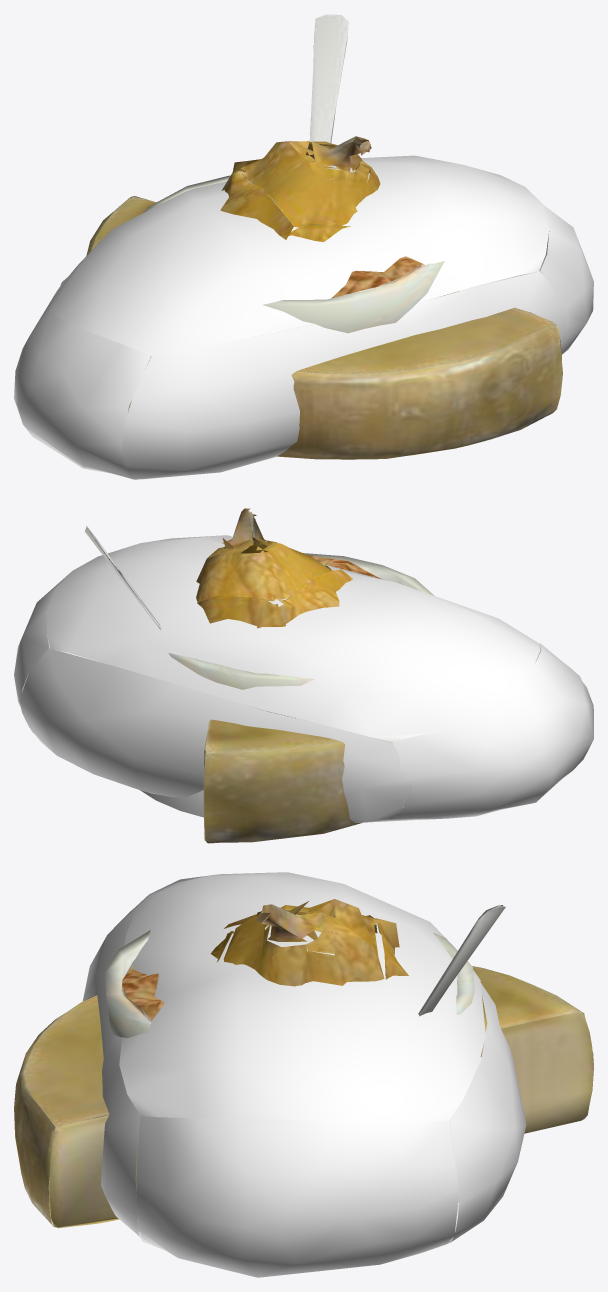
Rendered from food.glb.
The picture shows the model from 3 angles, top to bottom: view 1: azimuth 30°, elevation 25°; view 2: azimuth 150°, elevation 25°; view 3: azimuth 270°, elevation 25°; orthographic projection. The views are drawn at different scales.
Parts seen in each view (by area): view 1: Loaf of Bread, Half Cheese Wheel, Decorative Gourd, Bowl of Cereal; view 2: Loaf of Bread, Half Cheese Wheel, Decorative Gourd, Bowl of Cereal, Frosted Cake; view 3: Loaf of Bread, Half Cheese Wheel, Decorative Gourd, Bowl of Cereal.
Part boxes in pixels (left/top/right/bottom): Loaf of Bread: left=14, top=155, right=593, bottom=479; Half Cheese Wheel: left=86, top=196, right=562, bottom=459; Decorative Gourd: left=220, top=136, right=380, bottom=242; Bowl of Cereal: left=144, top=14, right=444, bottom=333; Loaf of Bread: left=14, top=535, right=593, bottom=822; Half Cheese Wheel: left=203, top=719, right=392, bottom=843; Decorative Gourd: left=196, top=508, right=352, bottom=628; Bowl of Cereal: left=85, top=525, right=434, bottom=718; Frosted Cake: left=140, top=790, right=203, bottom=817; Loaf of Bread: left=82, top=872, right=526, bottom=1277; Half Cheese Wheel: left=14, top=966, right=593, bottom=1228; Decorative Gourd: left=210, top=899, right=408, bottom=986; Bowl of Cereal: left=105, top=905, right=505, bottom=1038.
Bounding box in the file's own units: 0.3005 × 0.146 × 0.2379.
14 materials, 12 textured.
